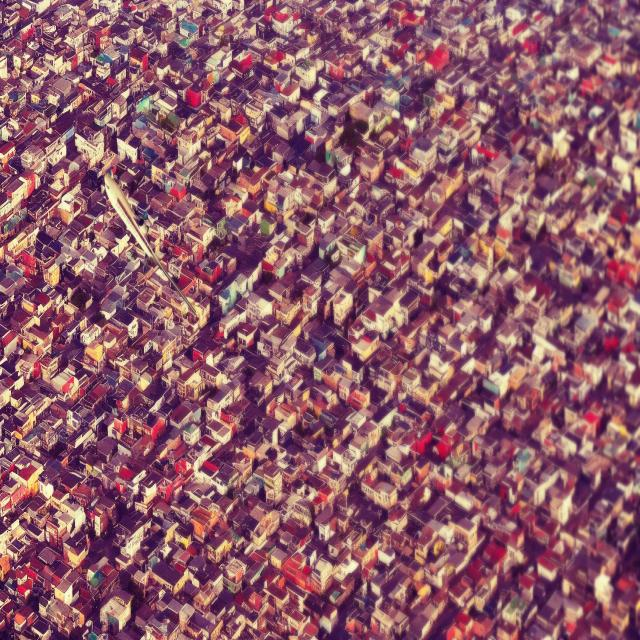airplane: (104, 172, 197, 315)
